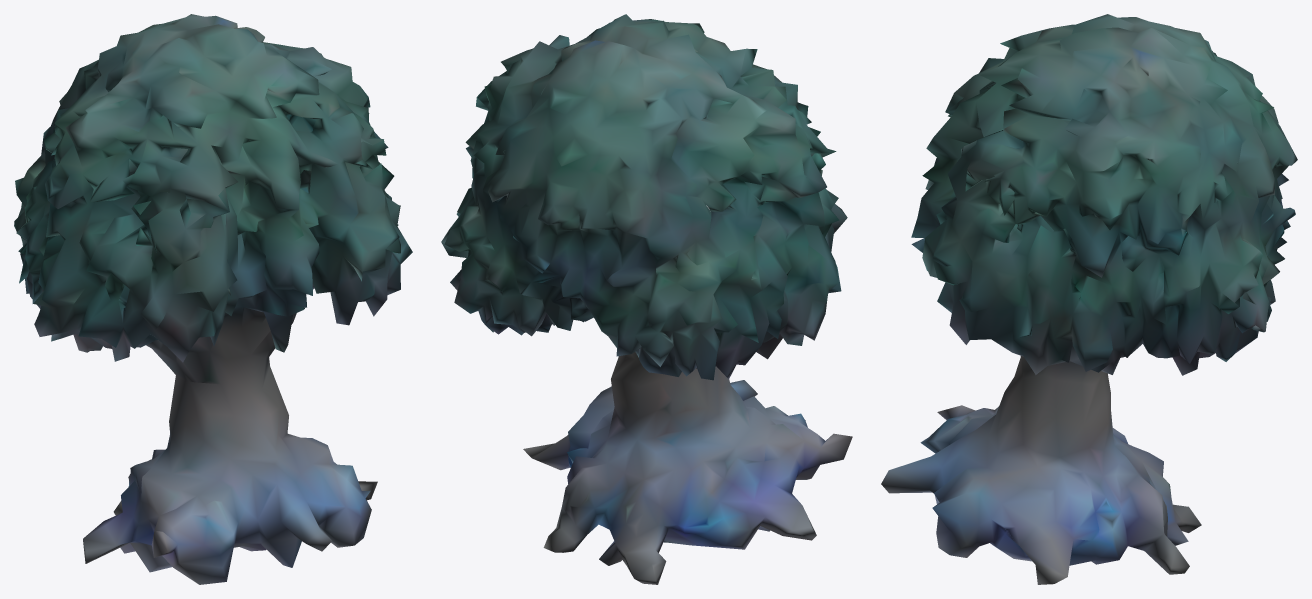
Rendered from media_1787068825917.glb.
3 renders of one model, left to right at view 1: azimuth 30°, elevation 25°; view 2: azimuth 150°, elevation 25°; view 3: azimuth 270°, elevation 25°, orthographic. The views are drawn at different scales.
Bounding box in the file's own units: 0.6123 × 0.8493 × 0.6102.
